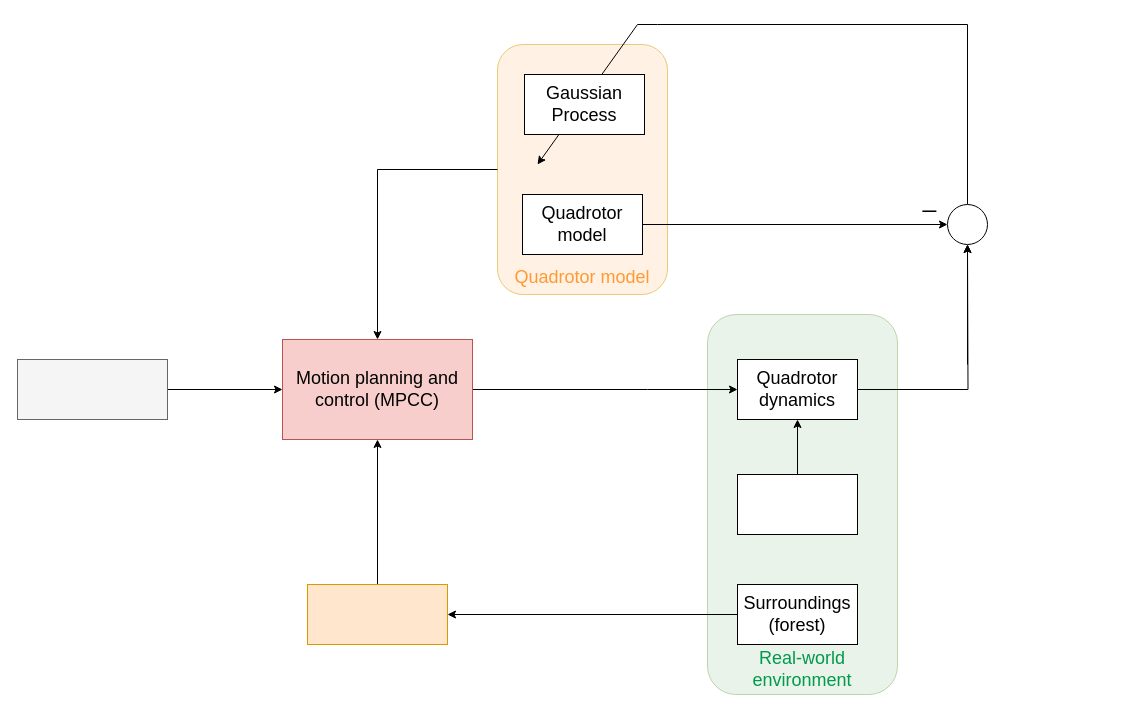
This 1130x712 diagram has some shape labels left out. The box of each missing label's shape, as (x1, y1, x2, y2) in pixels:
Obstacle map (trees): (306, 584, 448, 644)
Reference path: (16, 358, 168, 420)
Wind: (736, 474, 858, 534)
